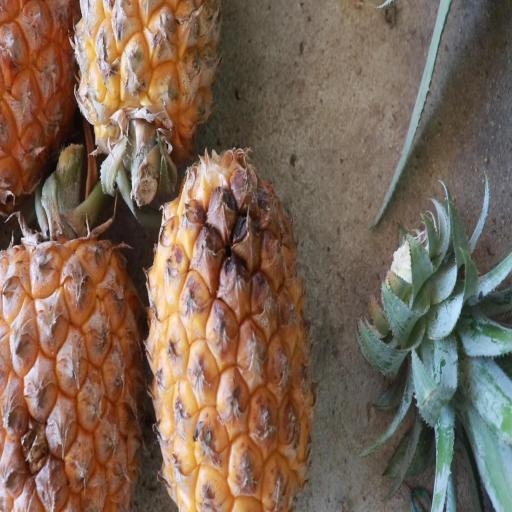Pineapple - v8 v1: (143, 140, 315, 511), (0, 146, 147, 512), (71, 0, 222, 197)
